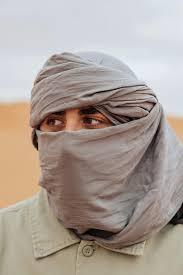scarf-kerchief: (1, 28, 179, 246)
